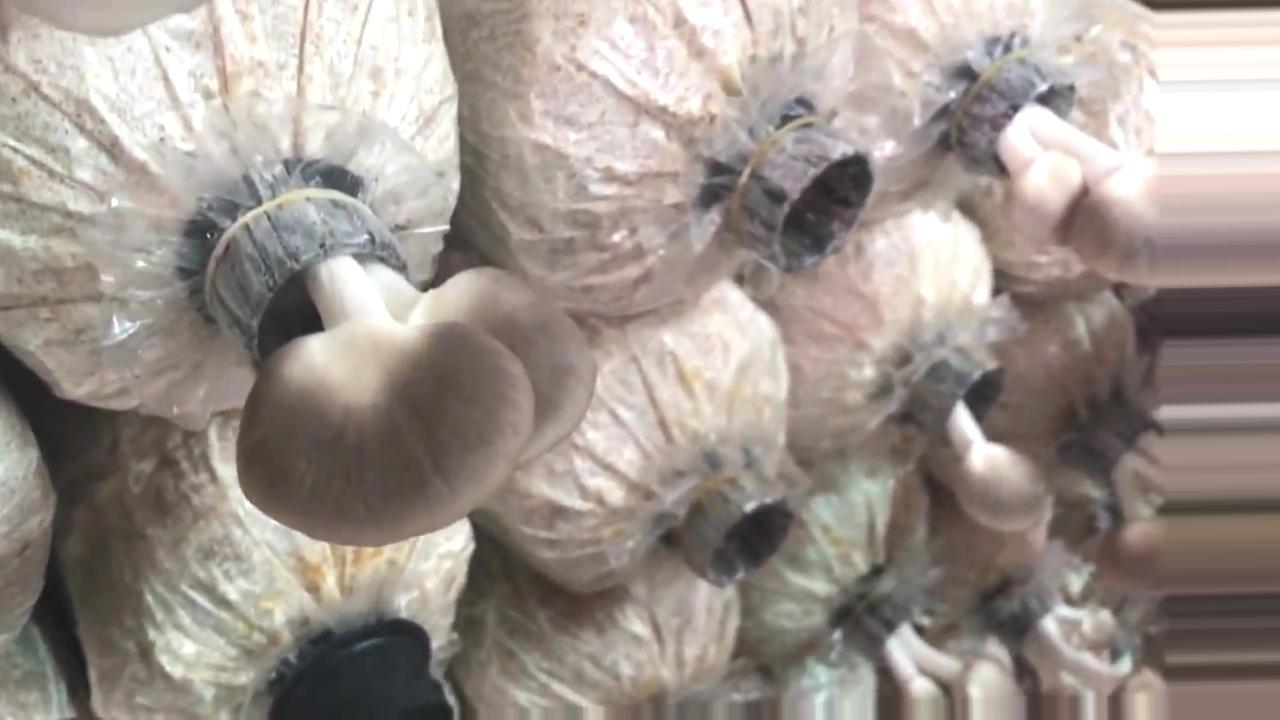nam: (223, 192, 591, 543), (959, 55, 1280, 287), (920, 334, 1049, 532), (850, 585, 1024, 720)
